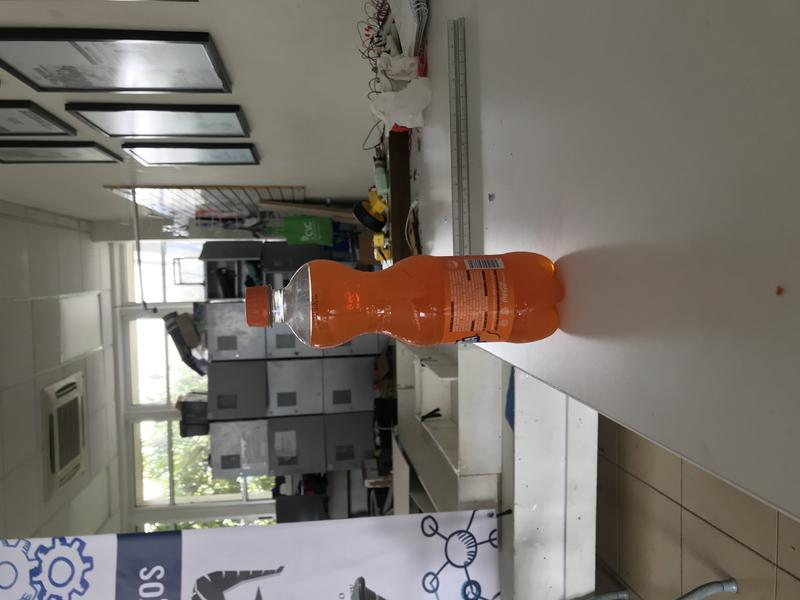fanta: (247, 253, 564, 349)
